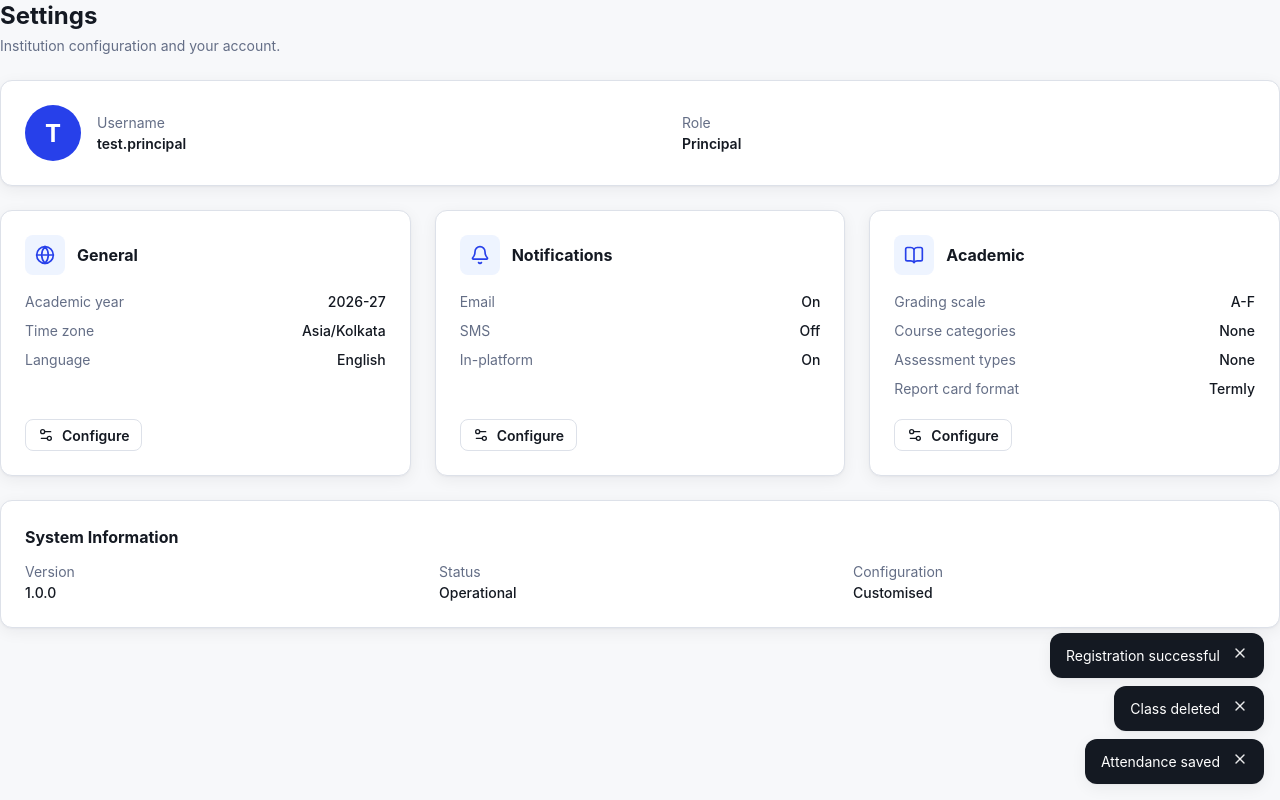
Test case: UI-018 settings — role-gated DOM › leadership configure dialog has no audit toggle (BR-059 unconditional)
Click the button with aria-label "Configure Notifications" at (518, 435), box 460,419 -> 577,451
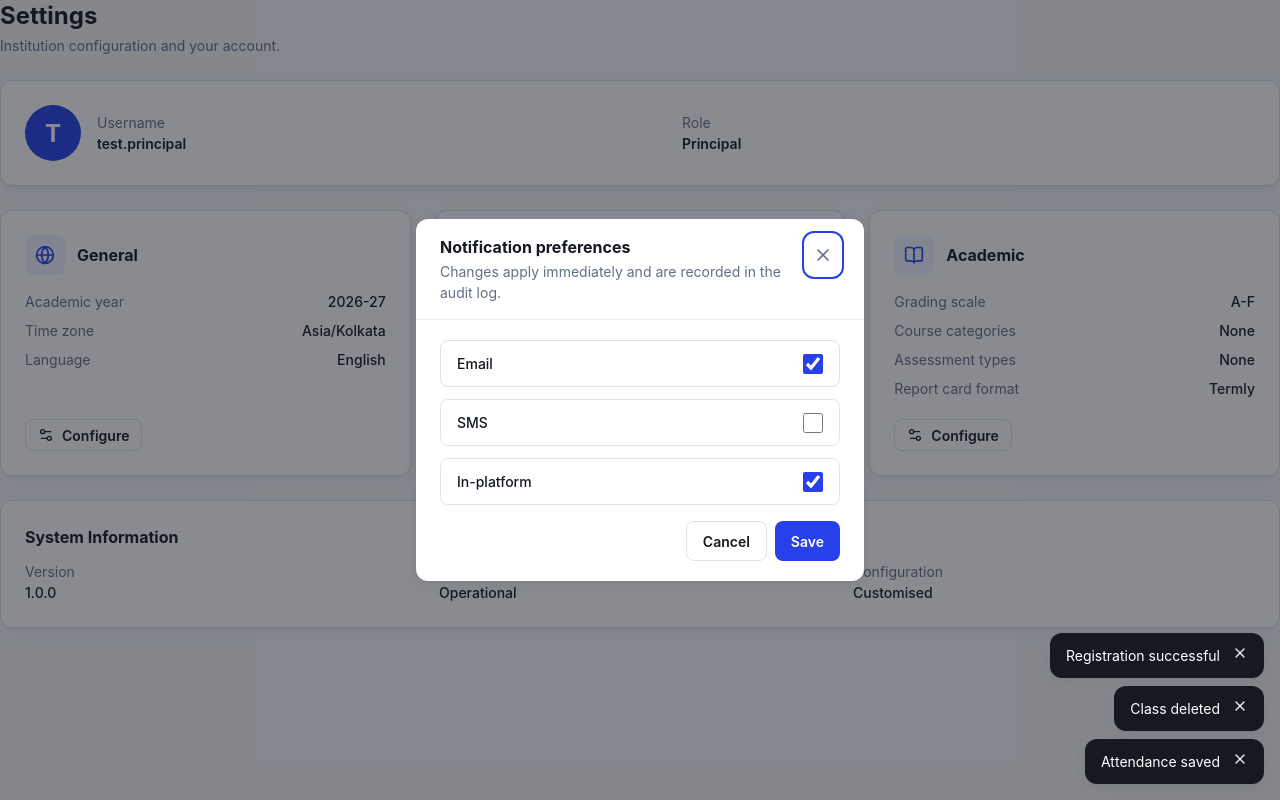
Result: the number of checkboxes is 3 at 803,354 -> 823,374; 803,412 -> 823,432; 803,472 -> 823,492
